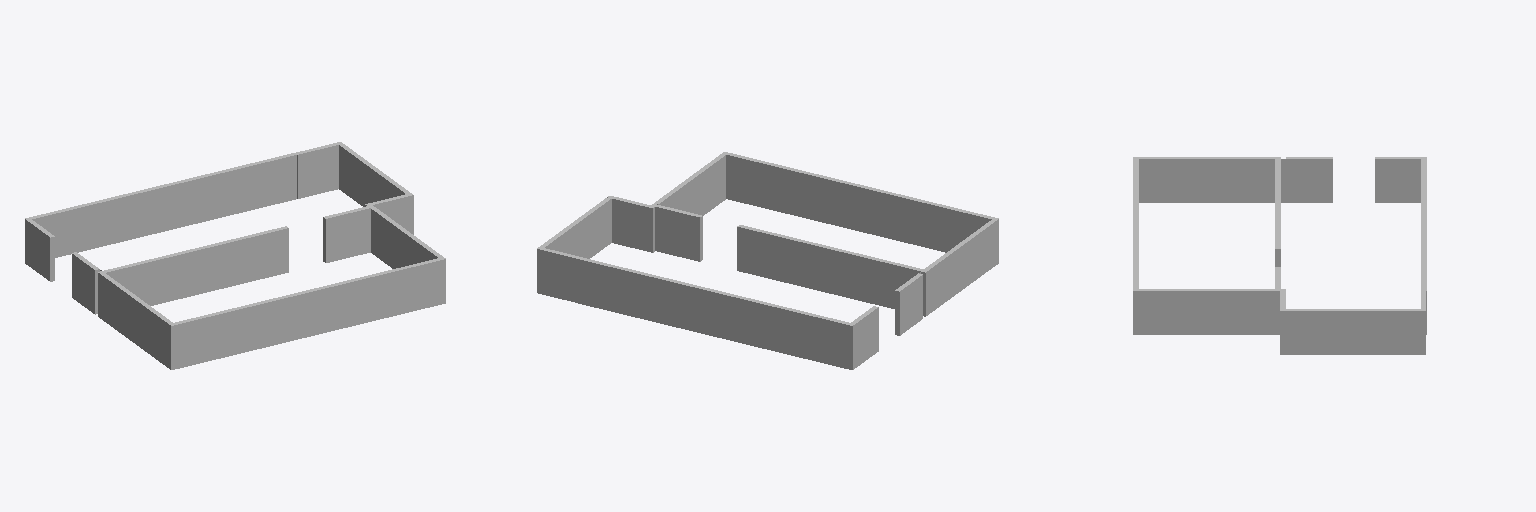
File: Walls.obj
The picture shows the model from 3 angles: view 1: azimuth 30°, elevation 25°; view 2: azimuth 150°, elevation 25°; view 3: azimuth 270°, elevation 25°; orthographic projection.
Visible parts, largest first — view 1: initialShadingGroup Walls_Mesh; view 2: initialShadingGroup Walls_Mesh; view 3: initialShadingGroup Walls_Mesh.
Boxes of the visible parts, x1,y1,x2,y2 form: initialShadingGroup Walls_Mesh: [25, 142, 445, 369]; initialShadingGroup Walls_Mesh: [537, 152, 998, 369]; initialShadingGroup Walls_Mesh: [1133, 157, 1426, 354].
Size of the model in its own units: 22.35 by 3 by 17.97.